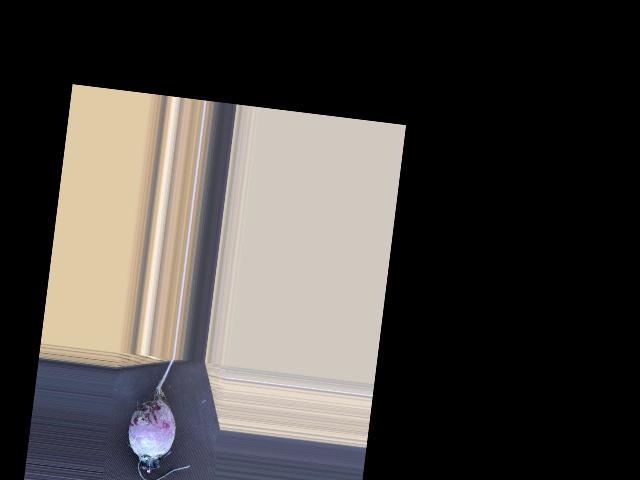beet: (121, 353, 202, 480)
